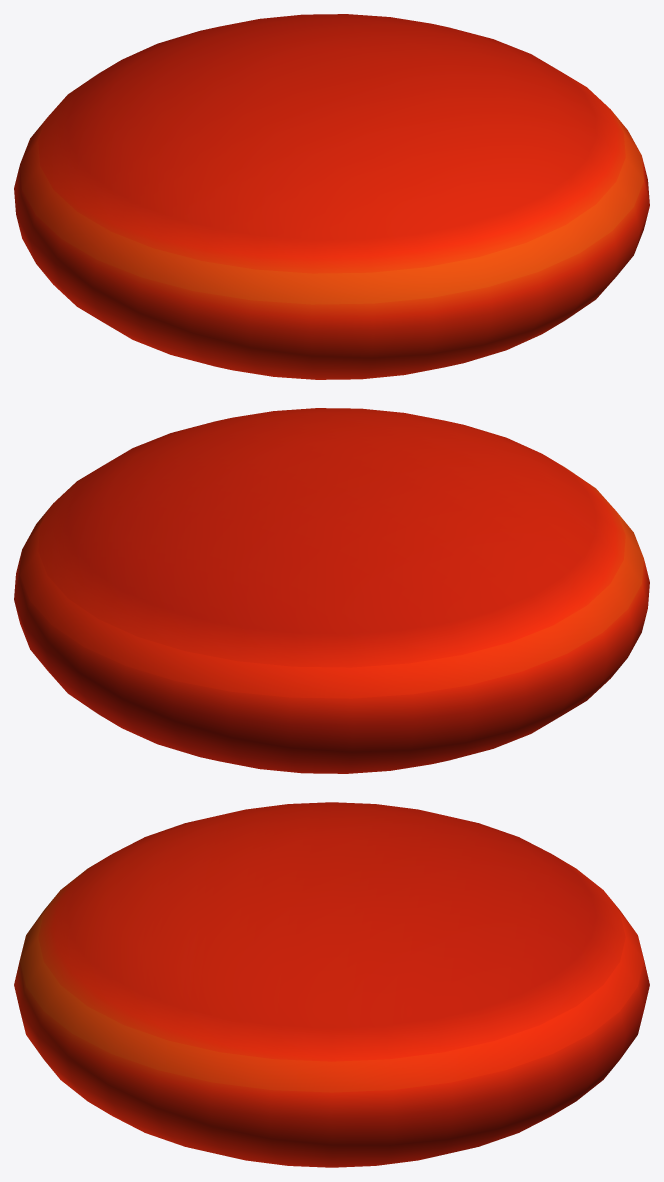
The model's file is Bonibon_06.fbx.
3 renders of one model, top to bottom at view 1: azimuth 30°, elevation 25°; view 2: azimuth 150°, elevation 25°; view 3: azimuth 270°, elevation 25°, orthographic.
Visible parts, largest first — view 1: Bonibon_06; view 2: Bonibon_06; view 3: Bonibon_06.
Boxes of the visible parts, x1=… form: Bonibon_06: x1=14, y1=14, x2=649, y2=379; Bonibon_06: x1=14, y1=408, x2=649, y2=773; Bonibon_06: x1=14, y1=802, x2=649, y2=1167.
Bounding box in the file's own units: 113 × 47.58 × 113.
